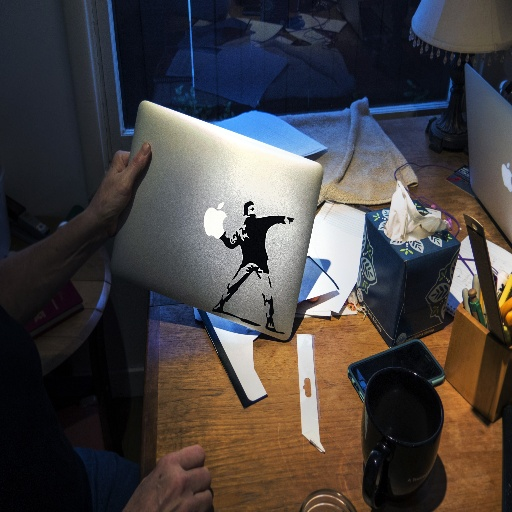hand: (66, 139, 149, 254), (122, 443, 214, 511), (286, 215, 296, 223)
